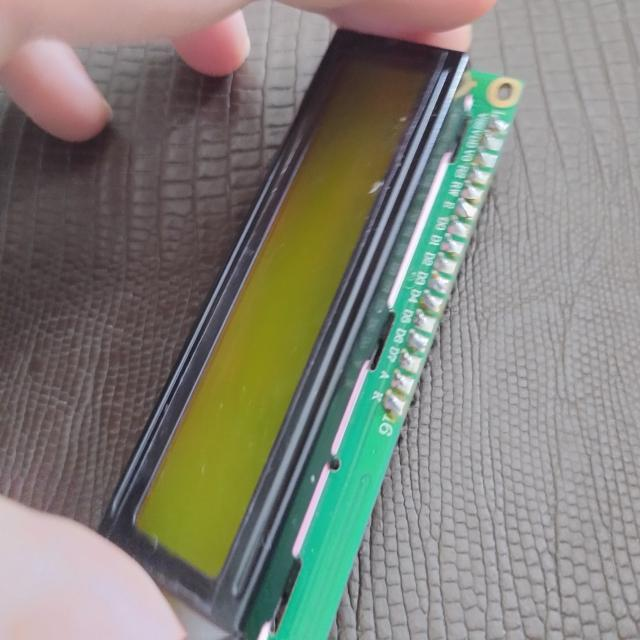lcd: (96, 25, 523, 638)
